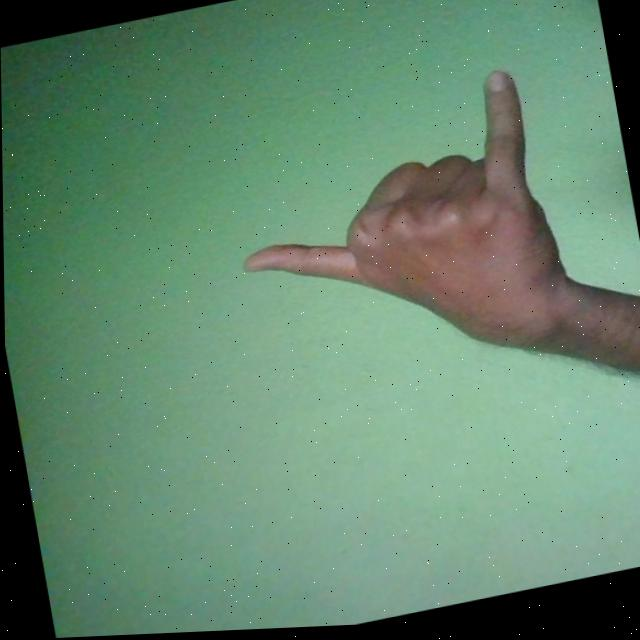Call Me: (218, 66, 582, 406)
